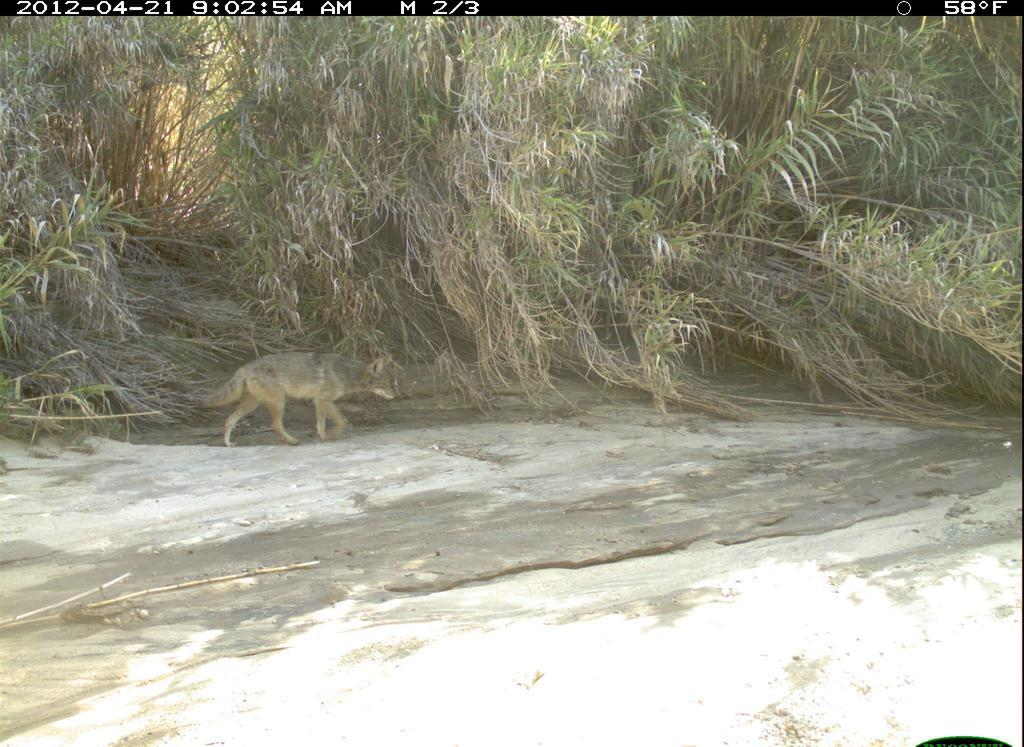coyote: (191, 344, 402, 456)
